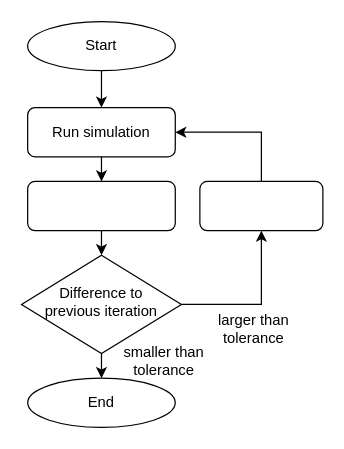
Image size: 344x449. Some labels were removed from this diagram. The centre of each missing label's shape, as x and y in pixels:
"Evaluate detector quantity" goes at [100,205].
"Increment l_max and m_max by 1" goes at [261,205].
